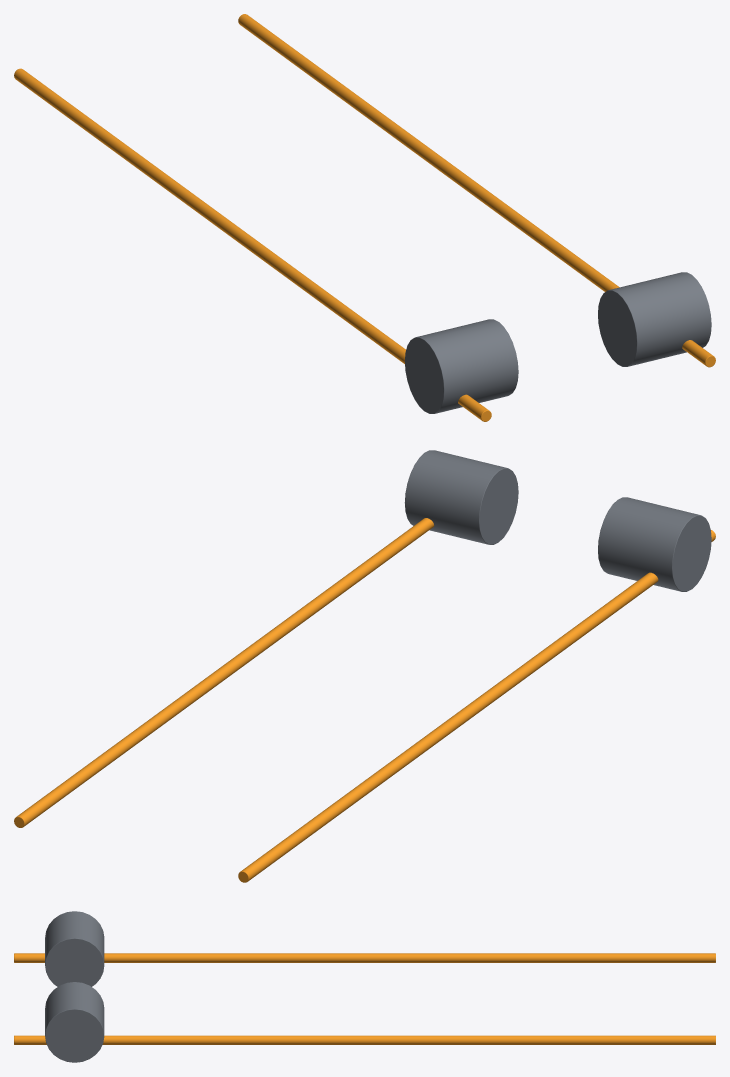
Rendered from engine.glb.
3 views of the same model, one above another, from view 1: azimuth 30°, elevation 25°; view 2: azimuth 150°, elevation 25°; view 3: azimuth 270°, elevation 25° (orthographic). The views are drawn at different scales.
Parts seen in each view (by area): view 1: POWERTRAIN_eMotor_DriveUnit_RL, POWERTRAIN_eMotor_DriveUnit_RR, CHASSIS_HV_Conduit_R, CHASSIS_HV_Conduit_L; view 2: POWERTRAIN_eMotor_DriveUnit_RL, POWERTRAIN_eMotor_DriveUnit_RR, CHASSIS_HV_Conduit_R, CHASSIS_HV_Conduit_L; view 3: CHASSIS_HV_Conduit_L, CHASSIS_HV_Conduit_R, POWERTRAIN_eMotor_DriveUnit_RL, POWERTRAIN_eMotor_DriveUnit_RR.
Part boxes in pixels (x1=…): POWERTRAIN_eMotor_DriveUnit_RL: x1=598, y1=272, x2=711, y2=366; POWERTRAIN_eMotor_DriveUnit_RR: x1=404, y1=319, x2=518, y2=413; CHASSIS_HV_Conduit_R: x1=14, y1=68, x2=491, y2=421; CHASSIS_HV_Conduit_L: x1=238, y1=14, x2=715, y2=367; POWERTRAIN_eMotor_DriveUnit_RL: x1=404, y1=450, x2=518, y2=544; POWERTRAIN_eMotor_DriveUnit_RR: x1=598, y1=497, x2=711, y2=591; CHASSIS_HV_Conduit_R: x1=238, y1=530, x2=715, y2=882; CHASSIS_HV_Conduit_L: x1=14, y1=518, x2=434, y2=827; CHASSIS_HV_Conduit_L: x1=14, y1=1035, x2=715, y2=1044; CHASSIS_HV_Conduit_R: x1=14, y1=953, x2=715, y2=962; POWERTRAIN_eMotor_DriveUnit_RL: x1=45, y1=982, x2=104, y2=1062; POWERTRAIN_eMotor_DriveUnit_RR: x1=45, y1=911, x2=104, y2=986.
Bounding box in the file's own units: 1.72 × 0.44 × 5.2.
